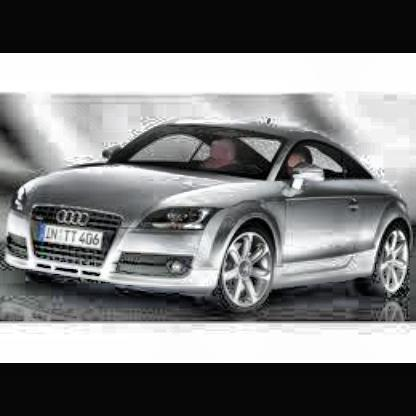Audi TT Hatchback 2011: (4, 117, 415, 318)
